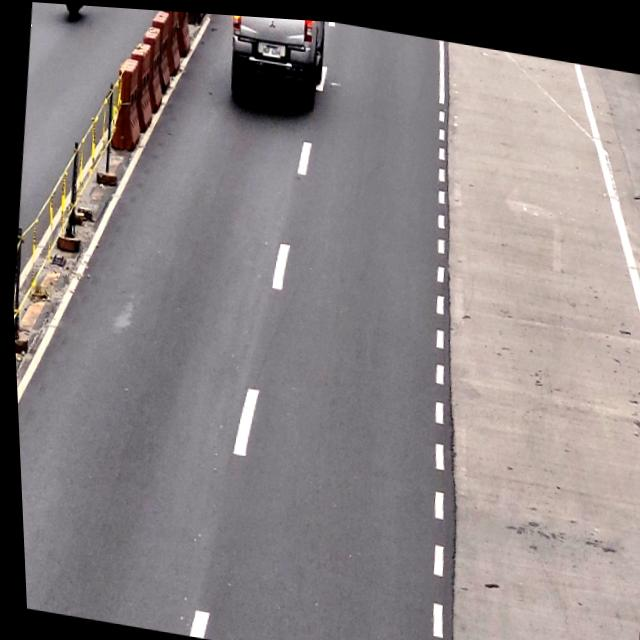Car: (220, 12, 328, 112)
License-Plate: (260, 39, 281, 57)
